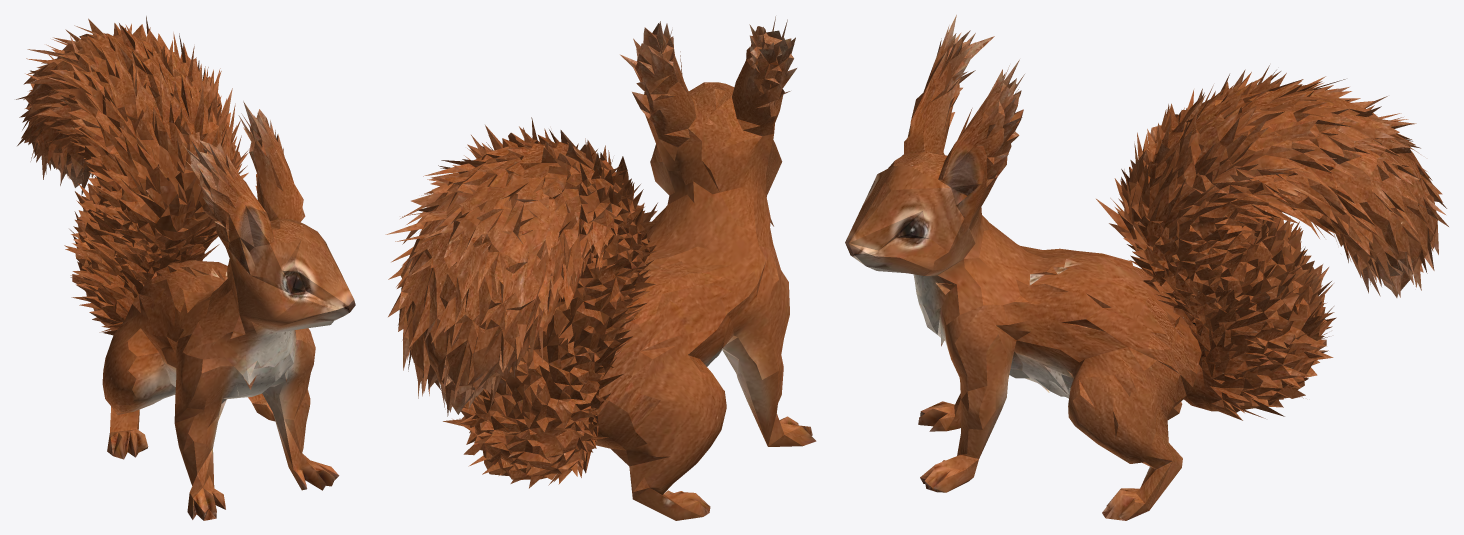
File: sincap.glb
The picture shows the model from 3 angles, left to right: view 1: azimuth 30°, elevation 25°; view 2: azimuth 150°, elevation 25°; view 3: azimuth 270°, elevation 25°; orthographic projection. The views are drawn at different scales.
Parts seen in each view (by area): view 1: output_unwrapped; view 2: output_unwrapped; view 3: output_unwrapped.
Part boxes in pixels (x1,y1,x2,y2): output_unwrapped: [16, 16, 355, 520]; output_unwrapped: [385, 16, 816, 520]; output_unwrapped: [845, 15, 1448, 520].
Size of the model in its own units: 0.7388 by 1.34 by 1.8.
Materials: 1 (1 with a texture image).
